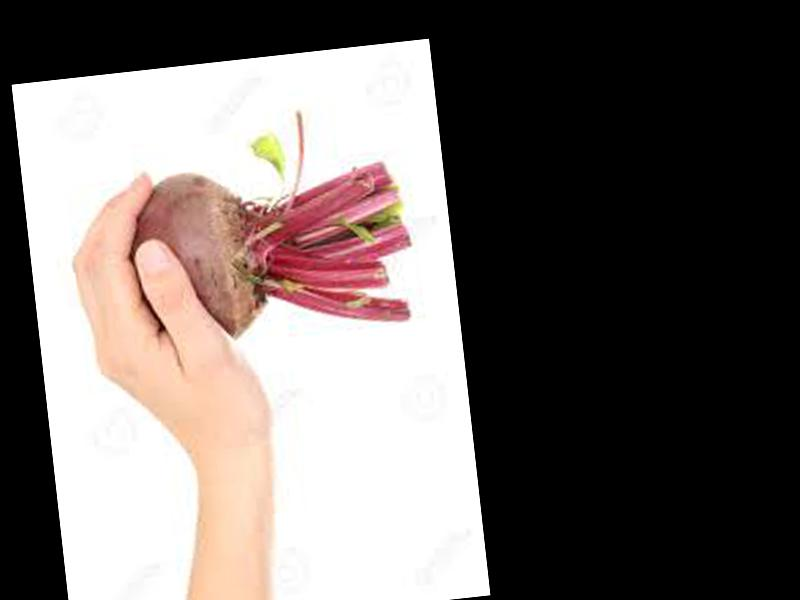Beet: (115, 99, 418, 348)
